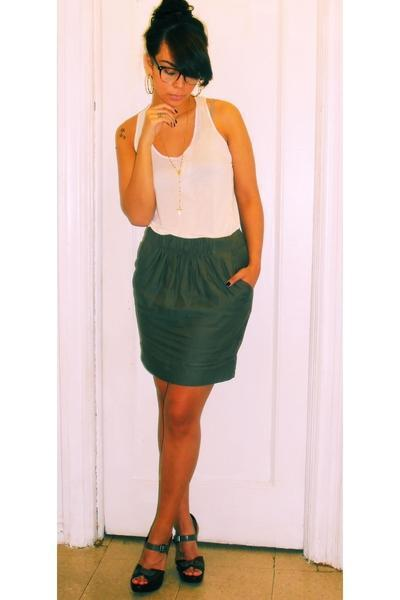shirt: (120, 84, 241, 238)
shoe: (119, 516, 203, 594)
skirt: (133, 228, 252, 385)
